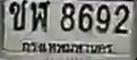2: (113, 3, 128, 32)
6: (78, 3, 92, 31)
8: (59, 2, 74, 31)
9: (96, 3, 110, 32)
A10: (8, 0, 26, 30)
A42: (30, 0, 49, 31)
BKK: (19, 38, 116, 58)
